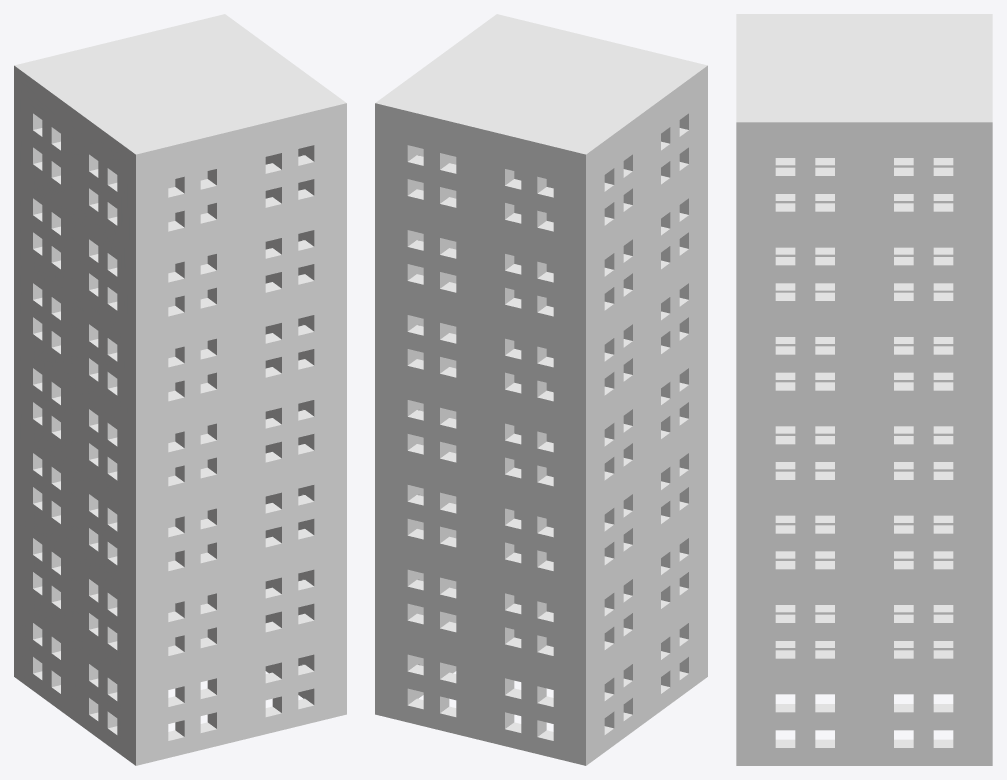
File: MinerGameItems-6.obj
3 renders of one model, left to right at view 1: azimuth 30°, elevation 25°; view 2: azimuth 150°, elevation 25°; view 3: azimuth 270°, elevation 25°, orthographic. The views are drawn at different scales.
Size of the model in its own units: 1.3 by 3.6 by 1.3.
Materials: 1 (1 with a texture image).
